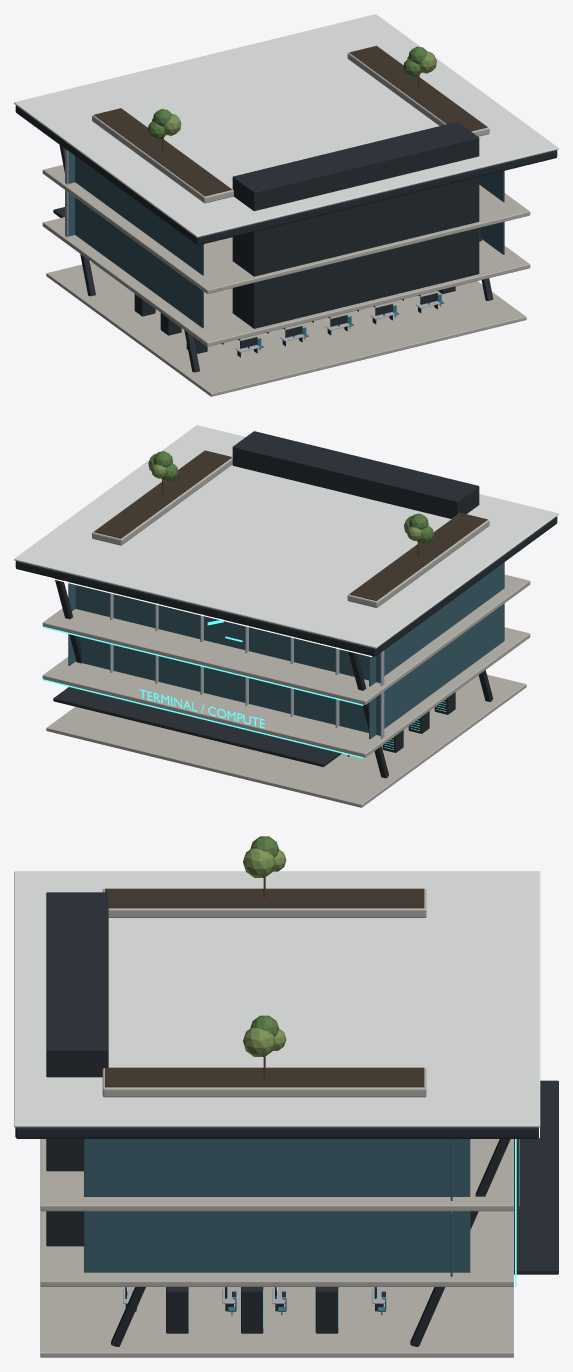
Rendered from building-CXPwZkuH.glb.
3 renders of one model, top to bottom at view 1: azimuth 30°, elevation 25°; view 2: azimuth 150°, elevation 25°; view 3: azimuth 270°, elevation 25°, orthographic. The views are drawn at different scales.
Parts seen in each view (by area): view 1: Roof crown, Building_Graphite, Building_Concrete, Building_Glazing, Building_Soil, Building_Leaf, Building_Metal, Building_LeafLight; view 2: Roof crown, Building_Concrete, Building_Glazing, Building_Graphite, Building_Soil, Building_Cyan, Building_Metal, Building_Leaf, Roof perimeter light, Building_LeafLight; view 3: Roof crown, Building_Concrete, Building_Glazing, Building_Graphite, Building_Soil, Building_LeafLight, Building_Leaf, Building_Metal.
Part boxes in pixels (x1,y1,x2,y2): Roof crown: (14,14,558,237); Building_Graphite: (15,105,557,372); Building_Concrete: (42,46,530,396); Building_Glazing: (68,151,504,328); Building_Soil: (94,46,487,196); Building_Leaf: (147,46,427,139); Building_Metal: (65,149,441,352); Building_LeafLight: (151,51,436,135); Roof crown: (14,425,558,648); Building_Concrete: (42,451,530,807); Building_Glazing: (68,562,504,739); Building_Graphite: (15,431,557,778); Building_Soil: (94,450,487,600); Building_Cyan: (43,618,446,758); Building_Metal: (110,592,384,738); Building_Leaf: (153,451,433,544); Roof perimeter light: (18,570,371,656); Building_LeafLight: (148,453,421,540); Roof crown: (14,871,540,1127); Building_Concrete: (40,888,513,1357); Building_Glazing: (84,1139,470,1276); Building_Graphite: (15,892,558,1346); Building_Soil: (105,888,424,1087); Building_LeafLight: (243,848,286,1056); Building_Leaf: (250,836,279,1036); Building_Metal: (123,1289,386,1315).
Size of the model in its own units: 48.2 by 28.35 by 43.7.
